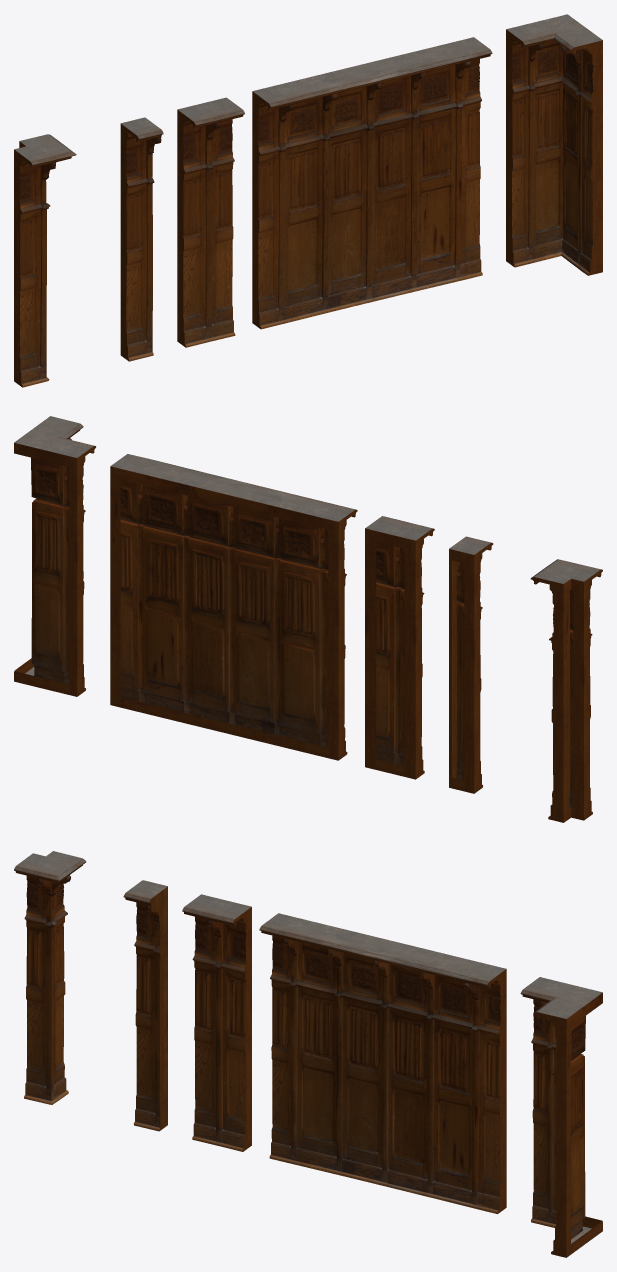
Rendered from walls.gltf.
3 views of the same model, one above another, from view 1: azimuth 30°, elevation 25°; view 2: azimuth 150°, elevation 25°; view 3: azimuth 330°, elevation 25° (orthographic). The views are drawn at different scales.
Parts seen in each view (by area): view 1: wcusdaudw_LOD0_TIER2_001, wcusdaudw_LOD0_TIER2_002, wcusdaudw_LOD0_TIER2_000, wcusdaudw_LOD0_TIER2_003, wcusdaudw_LOD0_TIER2_004; view 2: wcusdaudw_LOD0_TIER2_001, wcusdaudw_LOD0_TIER2_002, wcusdaudw_LOD0_TIER2_000, wcusdaudw_LOD0_TIER2_003, wcusdaudw_LOD0_TIER2_004; view 3: wcusdaudw_LOD0_TIER2_001, wcusdaudw_LOD0_TIER2_002, wcusdaudw_LOD0_TIER2_000, wcusdaudw_LOD0_TIER2_003, wcusdaudw_LOD0_TIER2_004.
Part boxes in pixels (x1,y1,x2,y2): wcusdaudw_LOD0_TIER2_001: (252,37,492,329); wcusdaudw_LOD0_TIER2_002: (506,14,602,275); wcusdaudw_LOD0_TIER2_000: (177,97,244,347); wcusdaudw_LOD0_TIER2_003: (14,134,76,387); wcusdaudw_LOD0_TIER2_004: (120,117,163,361); wcusdaudw_LOD0_TIER2_001: (110,454,357,760); wcusdaudw_LOD0_TIER2_002: (14,416,95,696); wcusdaudw_LOD0_TIER2_000: (365,516,434,779); wcusdaudw_LOD0_TIER2_003: (530,559,602,822); wcusdaudw_LOD0_TIER2_004: (449,536,493,793); wcusdaudw_LOD0_TIER2_001: (259,913,506,1213); wcusdaudw_LOD0_TIER2_002: (520,977,602,1257); wcusdaudw_LOD0_TIER2_000: (182,894,251,1151); wcusdaudw_LOD0_TIER2_003: (14,851,86,1104); wcusdaudw_LOD0_TIER2_004: (123,880,167,1131).
Size of the model in its own units: 5.62 by 2.25 by 0.7503.
1 material, 1 textured.
